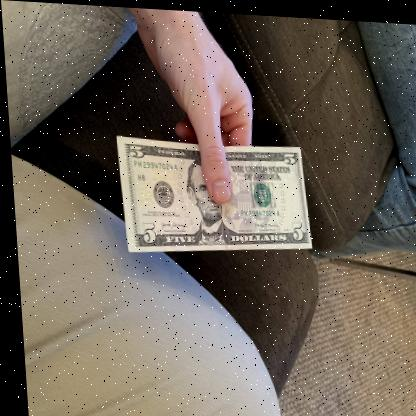five-front: (111, 131, 312, 255)
